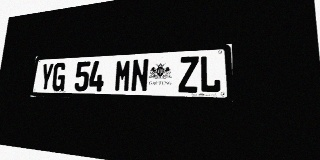4: (88, 60, 105, 92)
5: (74, 61, 91, 91)
G: (51, 62, 67, 91)
L: (199, 55, 221, 93)
M: (114, 59, 132, 92)
N: (131, 58, 149, 92)
Y: (39, 63, 54, 91)
Z: (178, 56, 199, 93)
